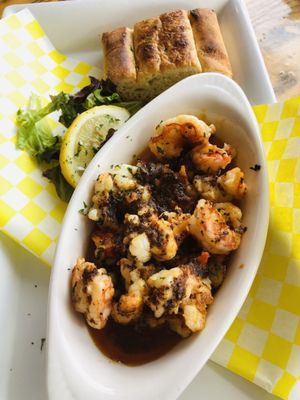sushi: (43, 71, 269, 395)
